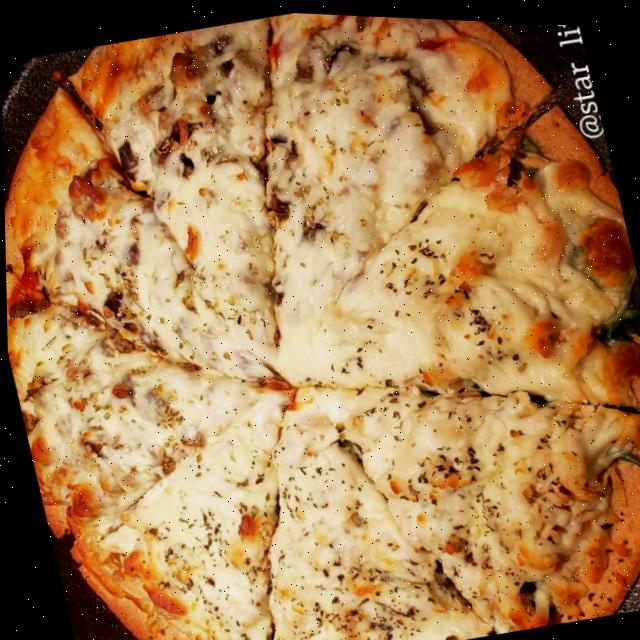basil: (572, 252, 640, 358), (488, 121, 556, 196), (446, 610, 520, 640), (601, 428, 640, 474)
mushrooms: (238, 121, 320, 240), (282, 22, 372, 91), (91, 268, 153, 363), (172, 27, 243, 98), (101, 126, 154, 203)
pizza: (0, 0, 640, 640)
